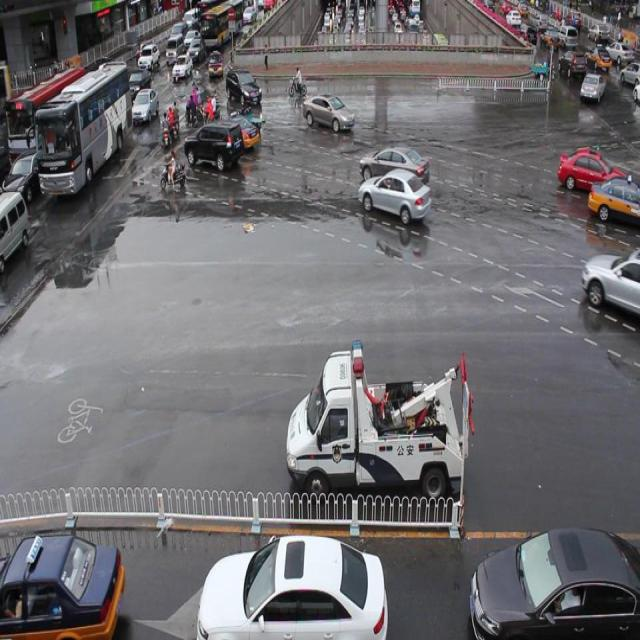bus: (285, 338, 464, 498)
car: (356, 167, 429, 224), (580, 247, 640, 314), (556, 145, 626, 195), (359, 143, 428, 188), (586, 172, 640, 227), (302, 91, 353, 134), (218, 112, 258, 152), (225, 66, 262, 108)
truck: (185, 120, 242, 170)
